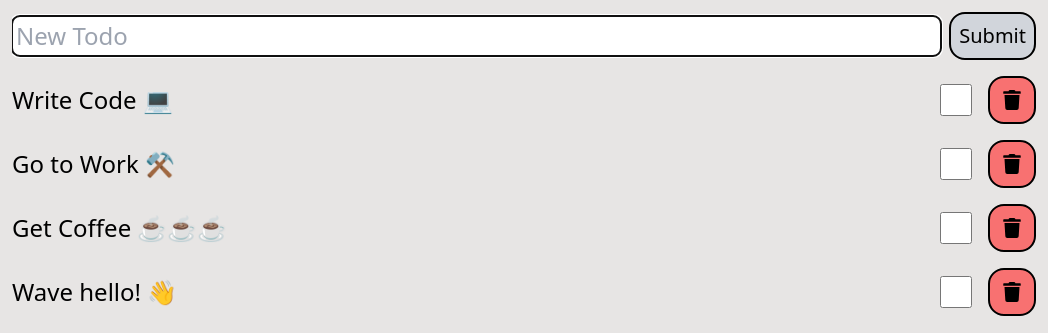
Home › should delete a todo
Expected: the text "Write Code 💻" is shown, x1=12 y1=84 x2=173 y2=116
Click the button with test id "delete-button" in the row of "Write Code 💻" at (1012, 100), box x1=988 y1=76 x2=1036 y2=124
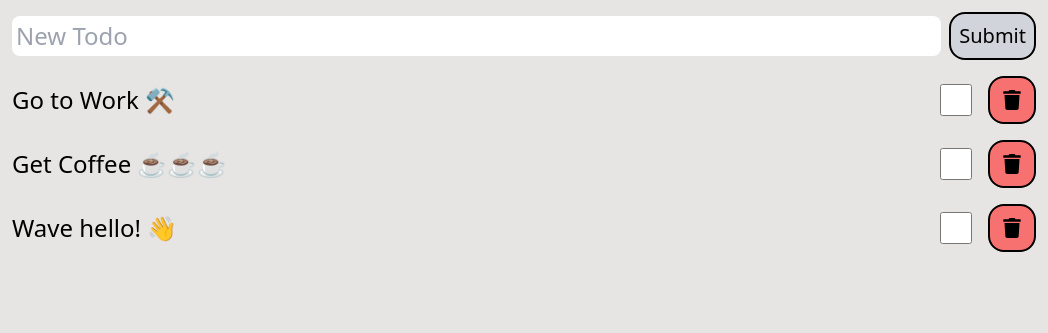
Result: the text "Write Code 💻" is gone
